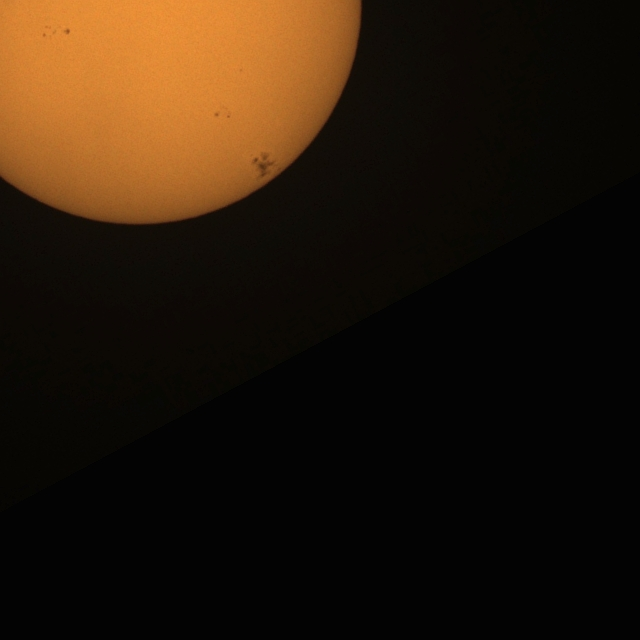sunspot: (252, 153, 275, 177), (43, 25, 70, 37), (214, 110, 229, 119), (64, 27, 71, 35), (214, 112, 221, 118)
